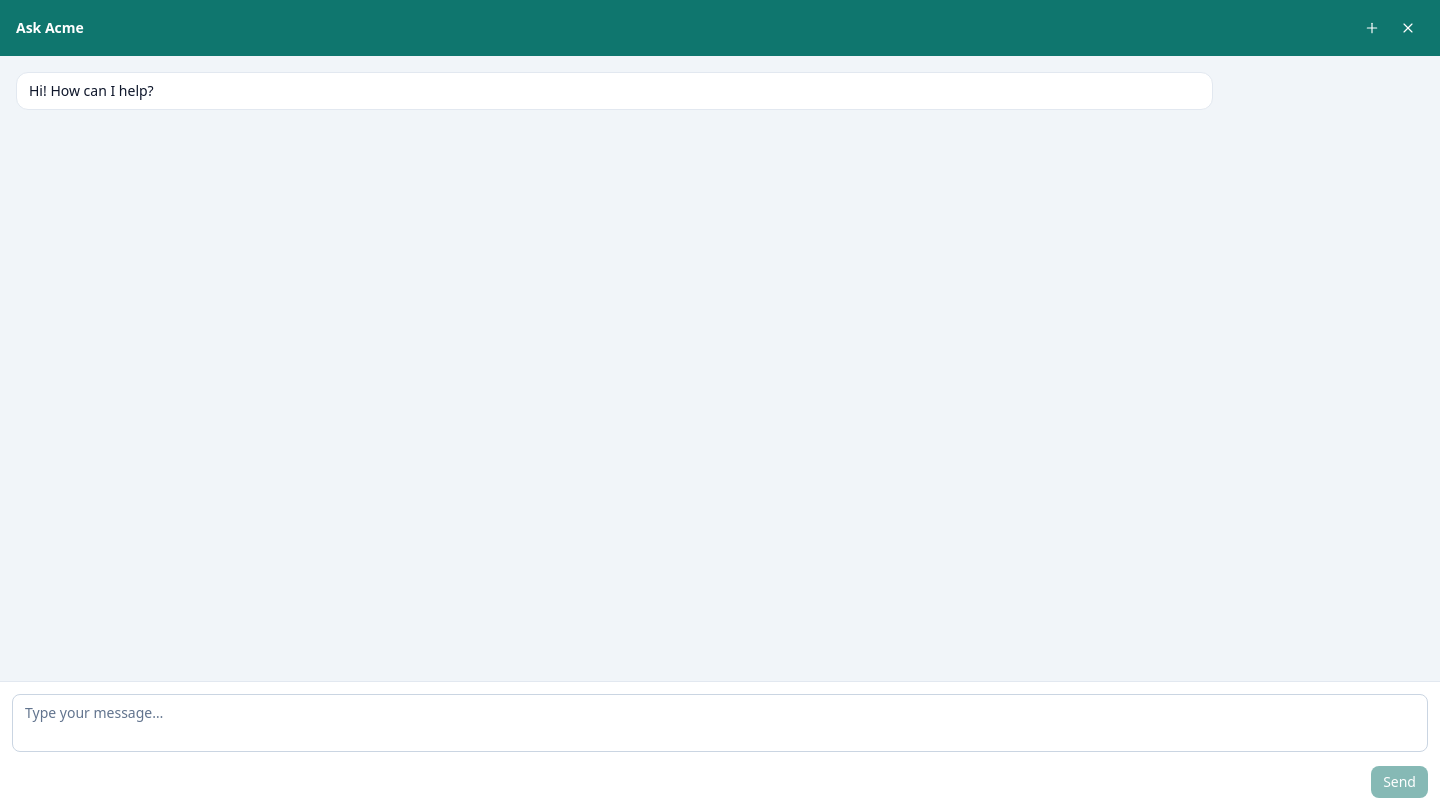
it: WidgetChat › shows the fallback, not an unhandled rejection, when the stream throws
The width and height of the screenshot is (1440, 810).
Expected: the text "Hi! How can I help?" is shown, 29,81 -> 154,100
Type "hello" into the text box with placeholder "Type your message…" at (720, 723), box 12,694 -> 1428,752
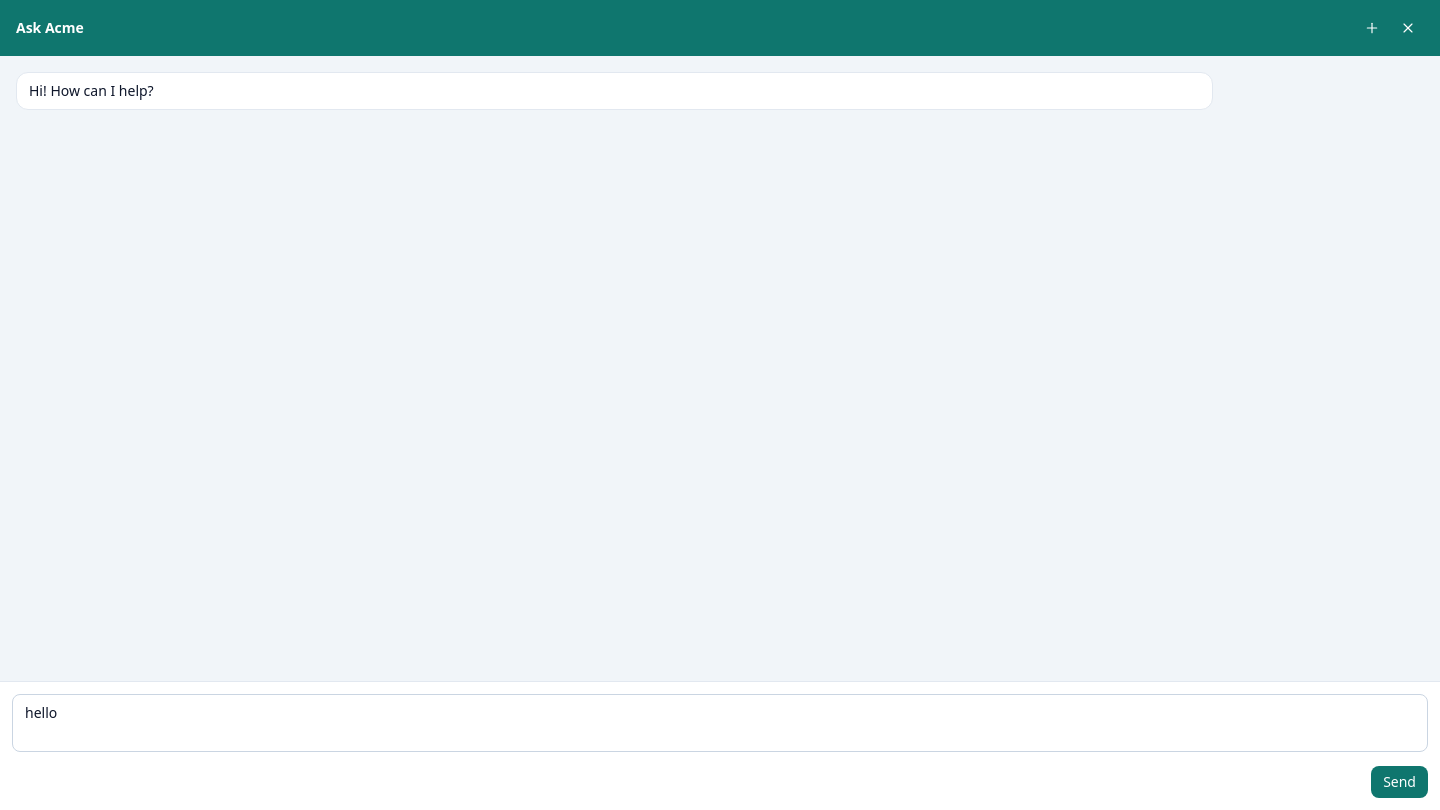
Click the button "Send" at (1400, 782), box 1371,766 -> 1428,798
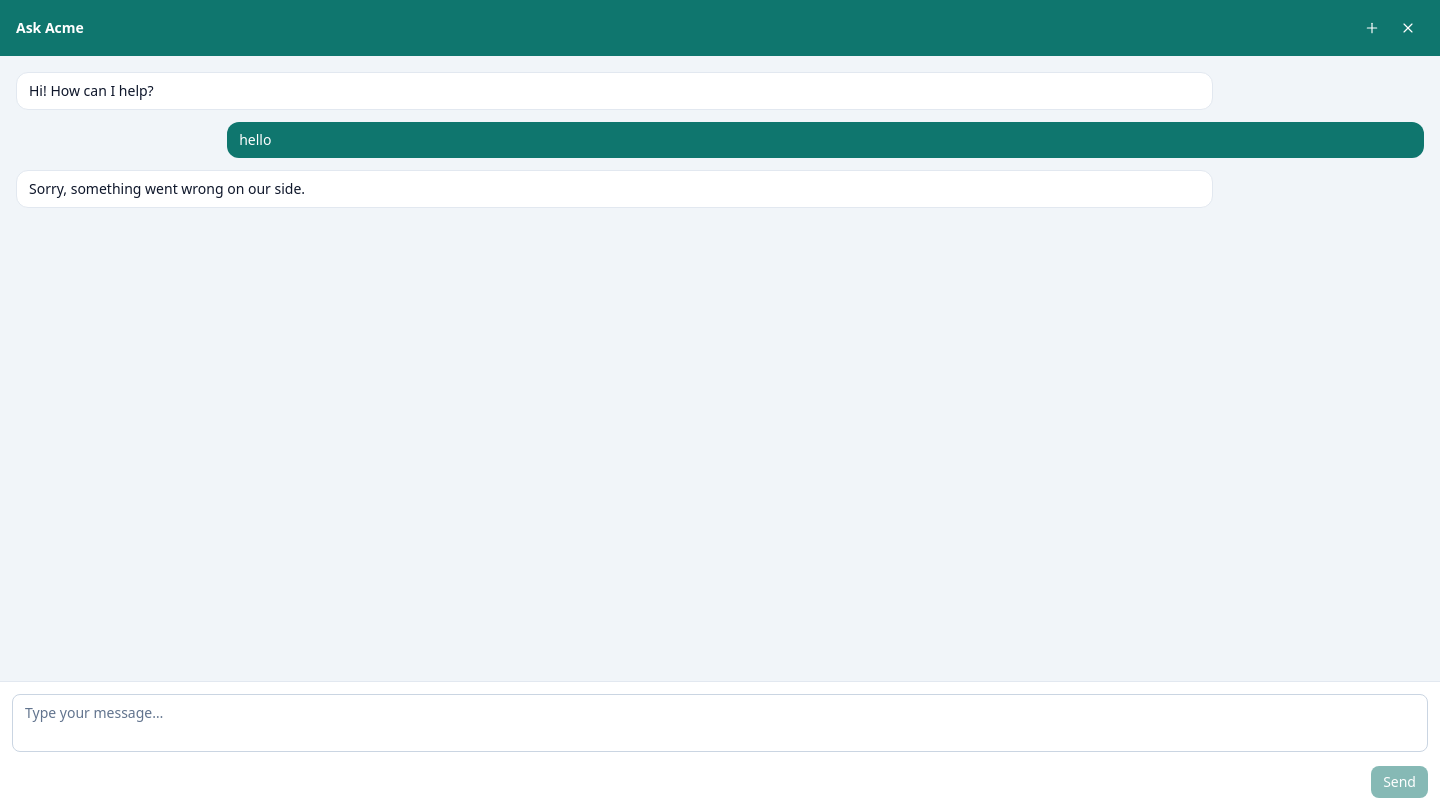
Expected: the text "Sorry, something went wrong on our side." is shown, 29,179 -> 305,198
Expected: the button "Send" is disabled, 1371,766 -> 1428,798
